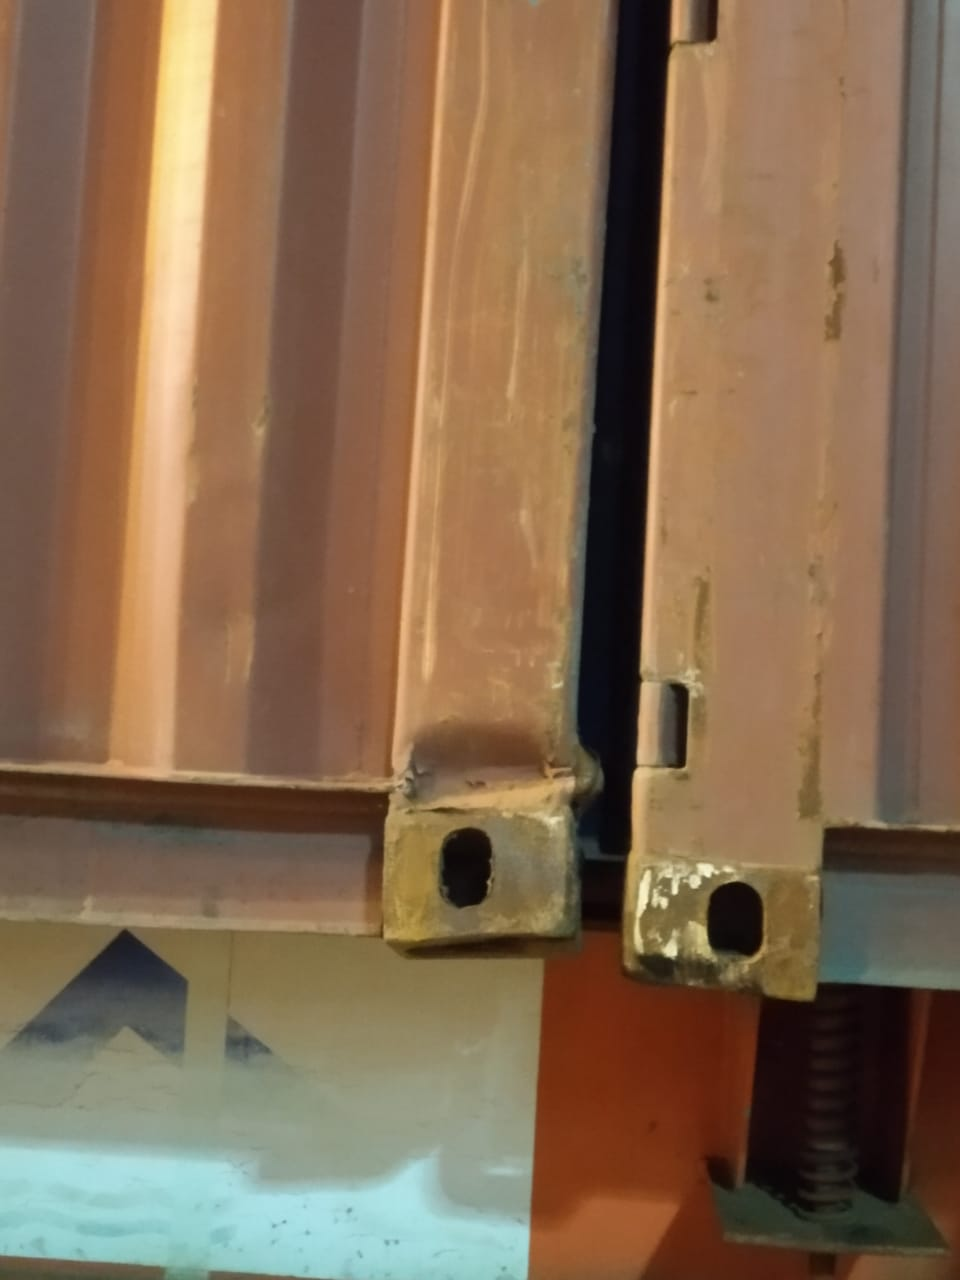dented: (363, 677, 648, 857)
